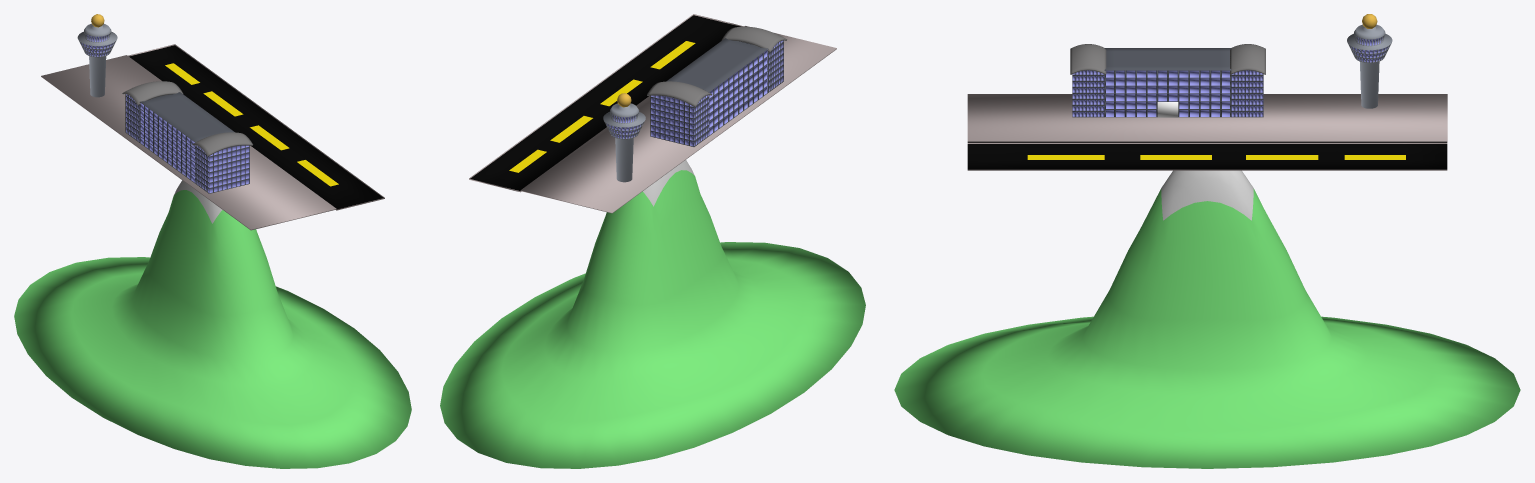
The model's file is planeta6.fbx.
3 views of the same model, side by side, from view 1: azimuth 30°, elevation 25°; view 2: azimuth 150°, elevation 25°; view 3: azimuth 270°, elevation 25° (orthographic). The views are drawn at different scales.
Parts seen in each view (by area): view 1: planeta6, aeropuerto, edificioAeropuerto, torresEdificio, torreDeControl, SurfPatch; view 2: planeta6, aeropuerto, edificioAeropuerto, torresEdificio, torreDeControl, SurfPatch; view 3: planeta6, aeropuerto, edificioAeropuerto, torresEdificio, torreDeControl, SurfPatch.
Part boxes in pixels (<box>): planeta6: <box>14,180,411,468</box>; aeropuerto: <box>41,44,384,230</box>; edificioAeropuerto: <box>139,92,234,183</box>; torresEdificio: <box>125,94,249,193</box>; torreDeControl: <box>77,14,117,97</box>; SurfPatch: <box>122,81,252,156</box>; planeta6: <box>440,160,865,468</box>; aeropuerto: <box>469,14,836,213</box>; edificioAeropuerto: <box>666,38,768,135</box>; torresEdificio: <box>650,40,783,146</box>; torreDeControl: <box>603,93,645,182</box>; SurfPatch: <box>647,26,786,107</box>; planeta6: <box>894,170,1520,468</box>; aeropuerto: <box>967,94,1447,170</box>; edificioAeropuerto: <box>1104,48,1231,117</box>; torresEdificio: <box>1072,70,1263,117</box>; torreDeControl: <box>1347,14,1392,108</box>; SurfPatch: <box>1070,44,1265,74</box>.
Size of the model in its own units: 1404 by 1456 by 2354.
